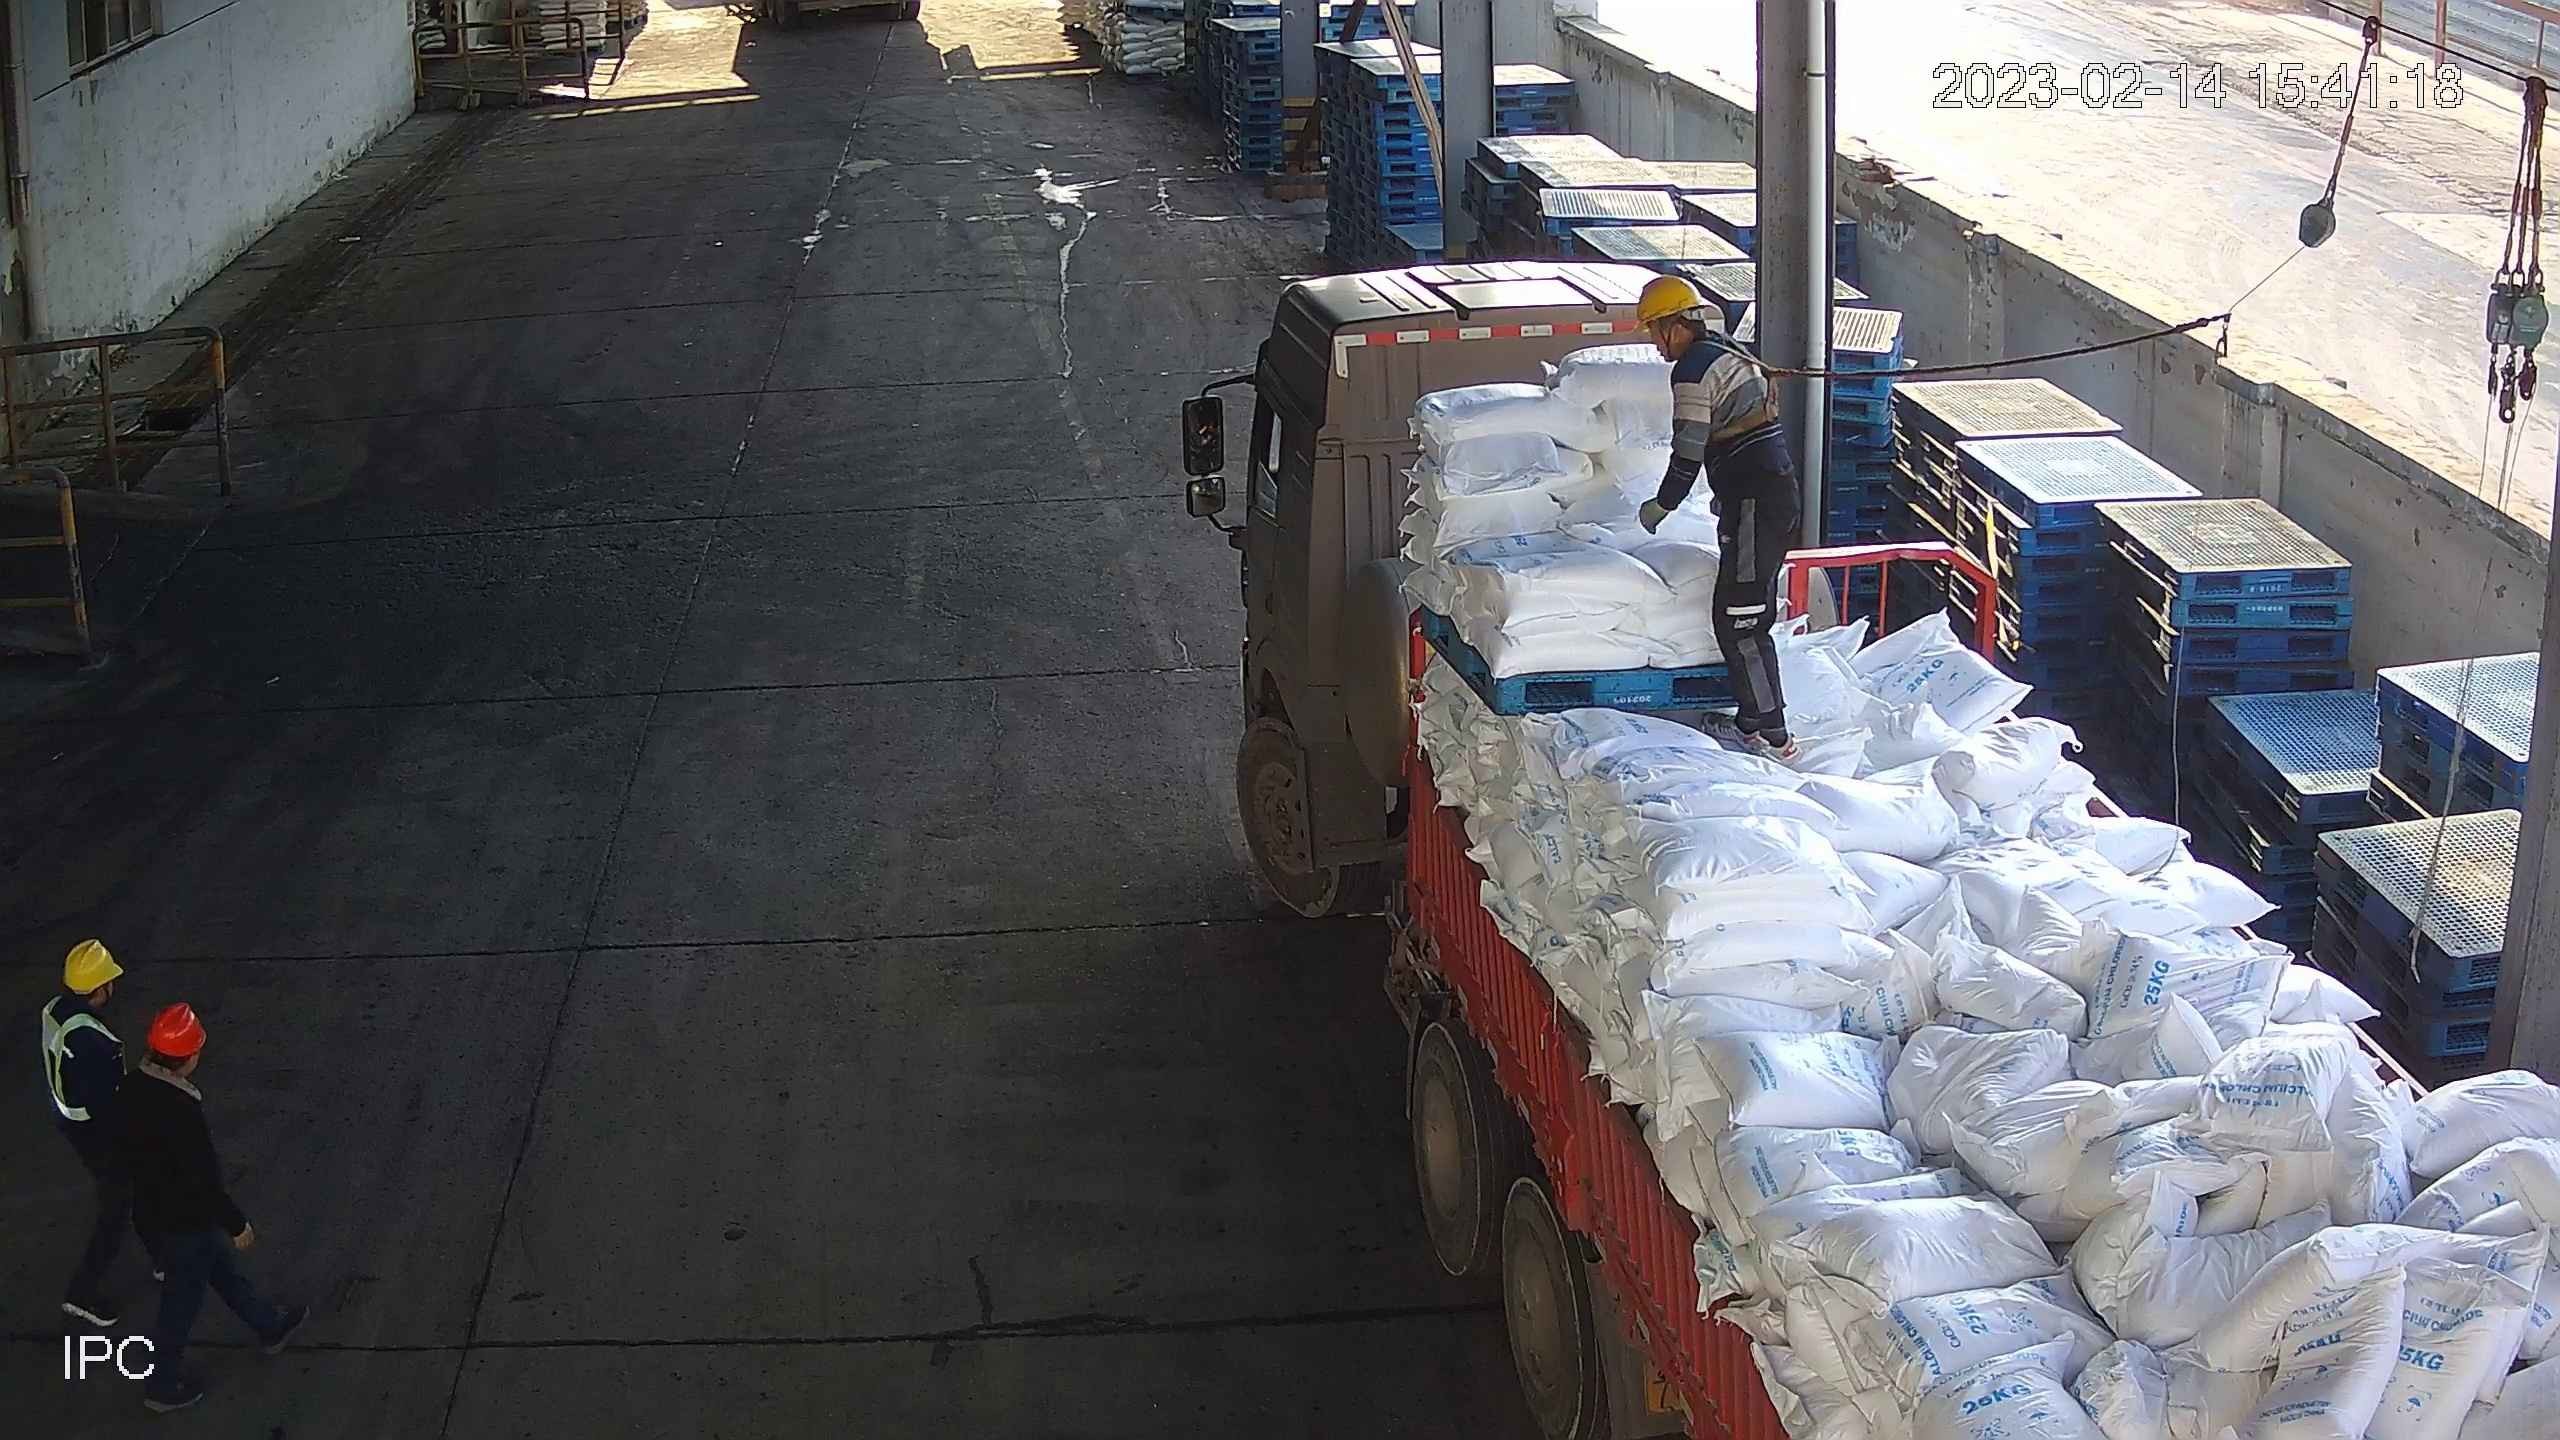belt: (1696, 332, 1790, 442)
head: (1628, 272, 1766, 393), (37, 938, 129, 1055), (123, 1003, 210, 1126)
helmet: (1628, 272, 1715, 333), (146, 1001, 207, 1058), (61, 938, 124, 994)
people: (1629, 272, 1802, 757), (124, 1002, 312, 1412), (38, 937, 129, 1326)
truck: (1178, 265, 2560, 1440)
